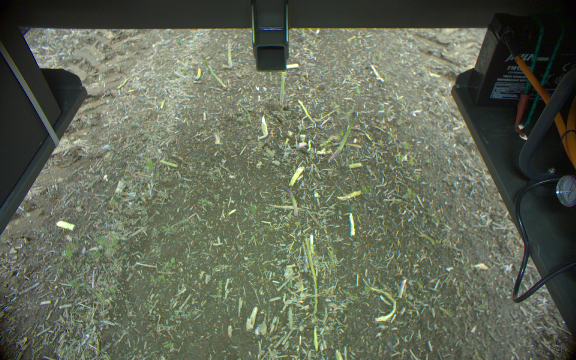aspa: (327, 111, 356, 163), (301, 238, 319, 316), (366, 285, 398, 323), (200, 53, 227, 90), (279, 185, 298, 217), (276, 71, 289, 106), (225, 35, 236, 68)
